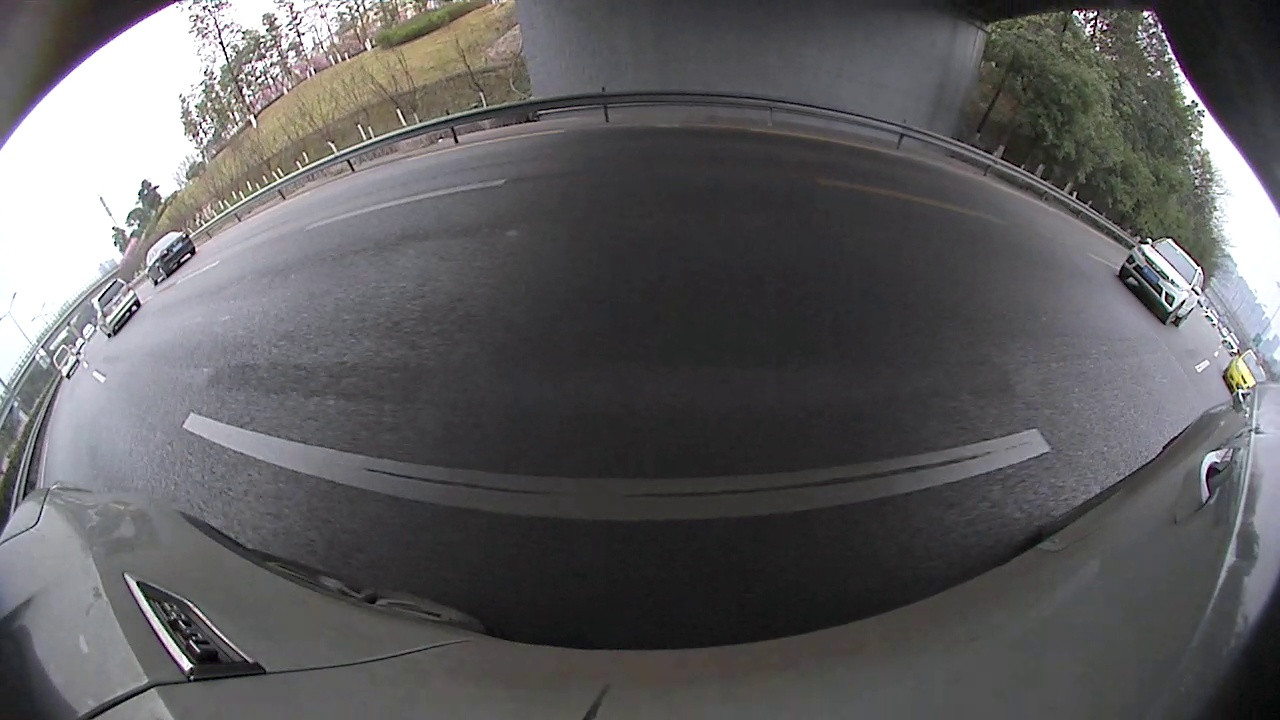car: (933, 187, 1279, 458), (363, 149, 536, 248), (604, 127, 753, 235), (904, 182, 963, 222), (533, 159, 591, 199), (749, 152, 780, 200)
front: (946, 227, 998, 287), (525, 186, 537, 215)
rear: (1170, 362, 1245, 457), (471, 193, 496, 235)
